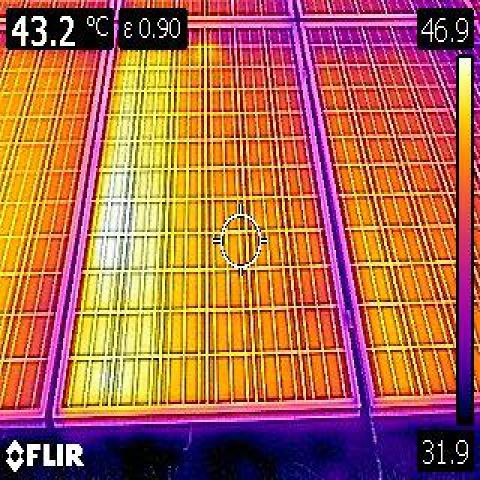fault: (65, 13, 172, 412)
